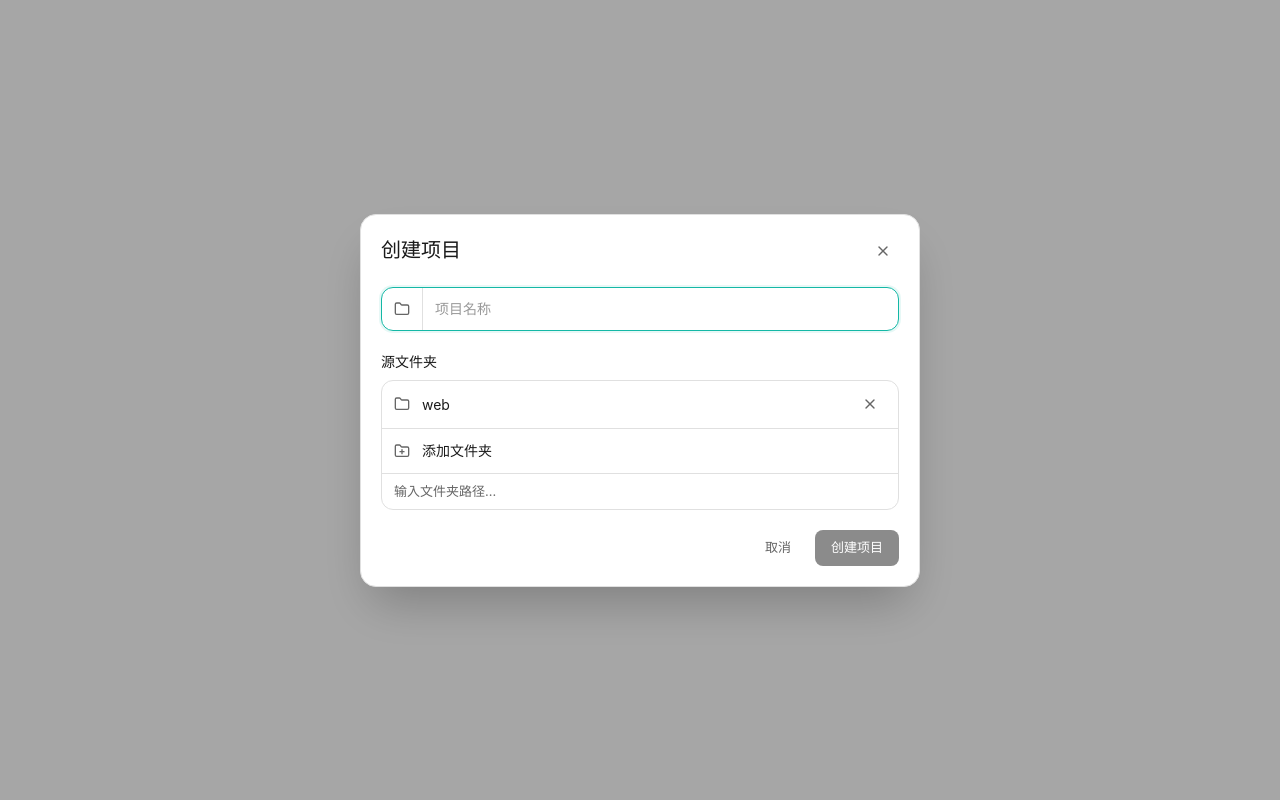
Test: LocalProjectCreateDialog › uses the device folder picker when the Web client adds another root
The width and height of the screenshot is (1280, 800).
Click the button with test id "add-local-project-create-folders": (457,450) [382, 428, 898, 472]
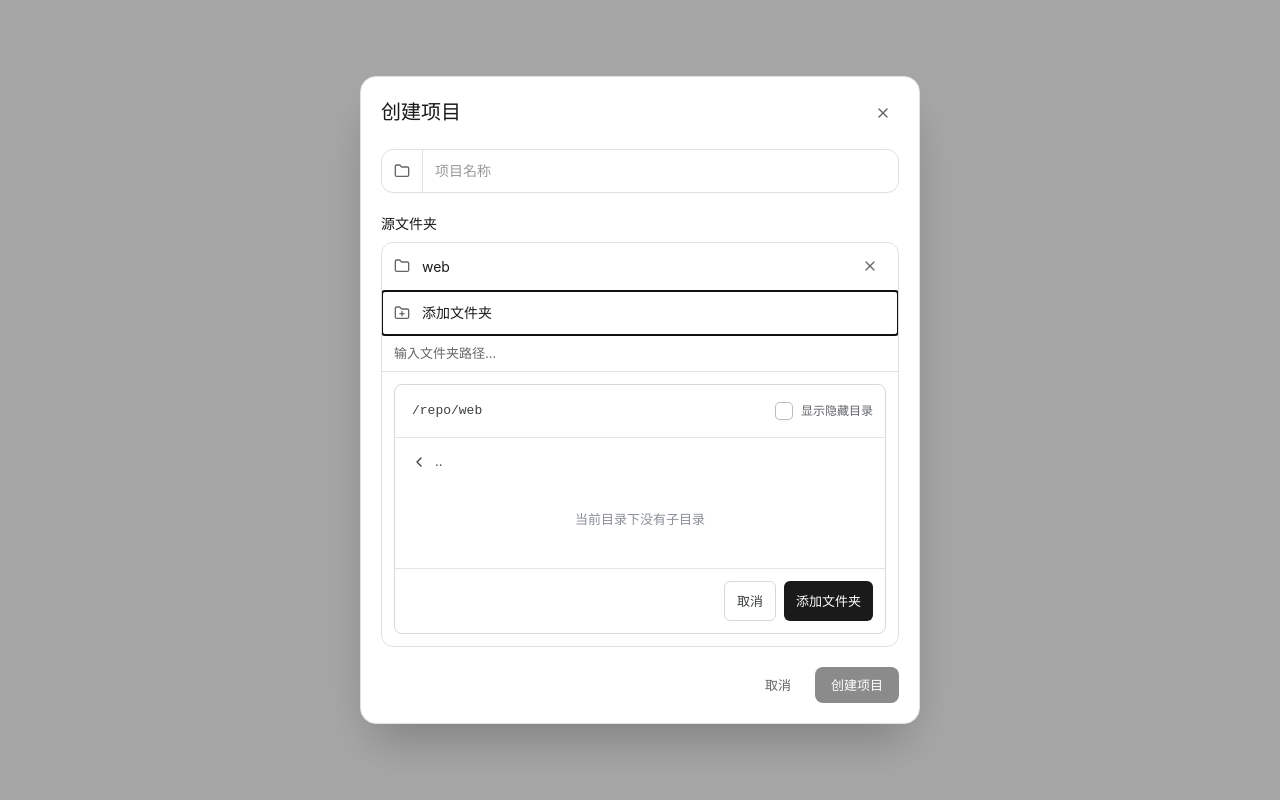
Expected: the element with test id "local-project-create-folder-picker" is shown, [382, 371, 898, 646]
